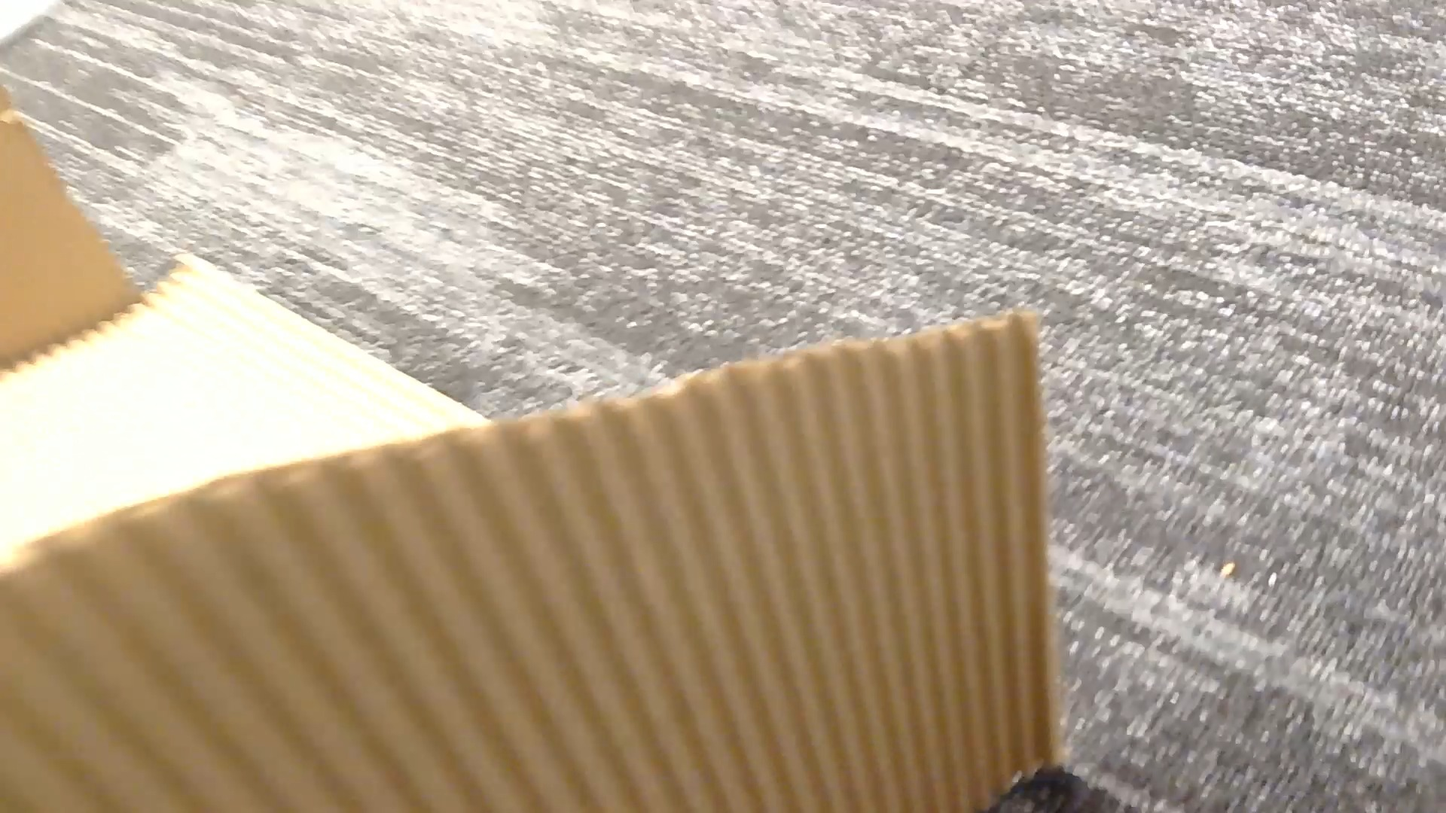Ramp: (0, 90, 1065, 812)
